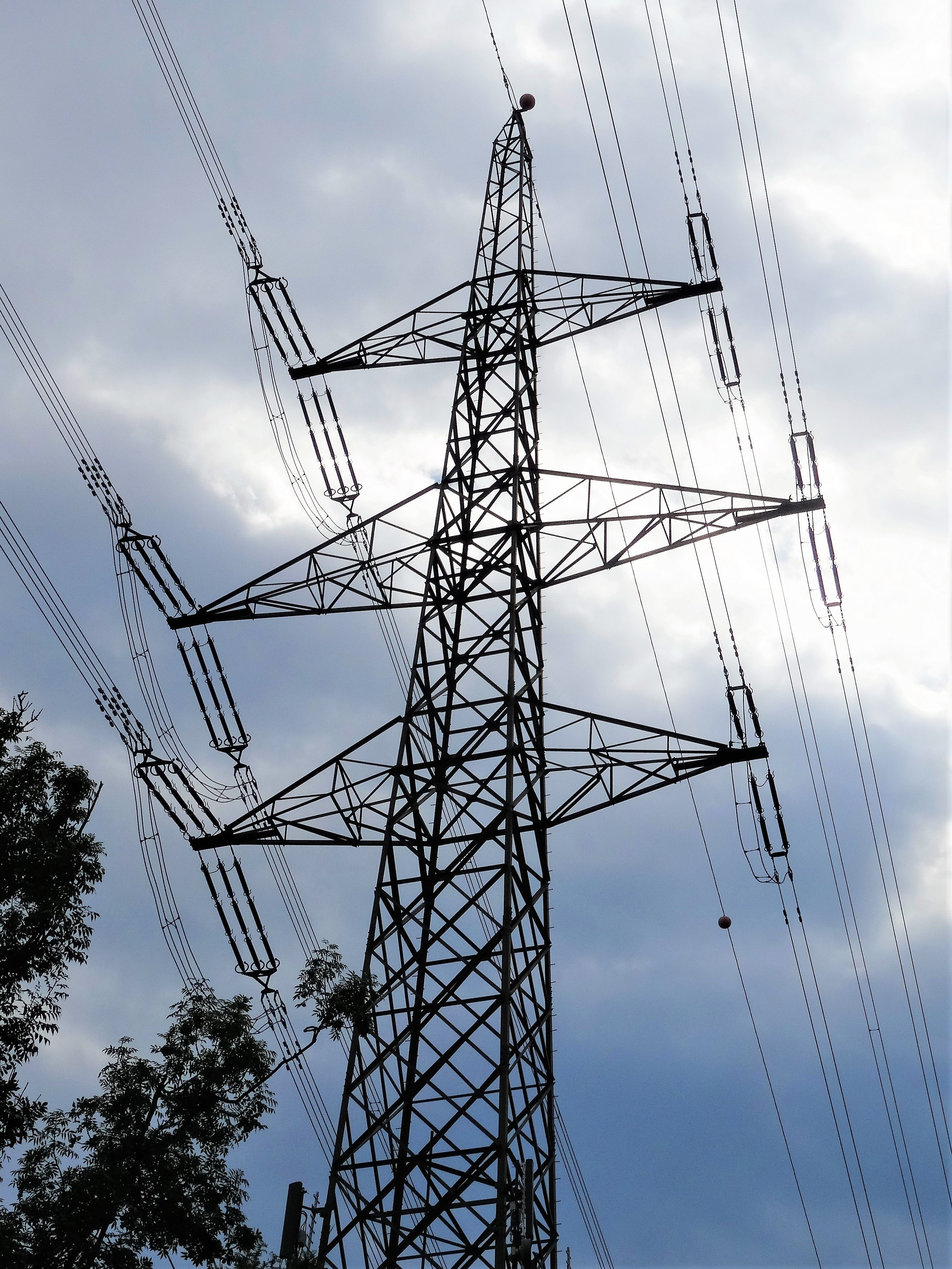insulator: (184, 847, 279, 995), (167, 626, 255, 760), (103, 525, 206, 623), (285, 373, 360, 505), (133, 756, 230, 831), (248, 267, 319, 361), (740, 753, 797, 866), (703, 296, 750, 395), (802, 508, 845, 611), (719, 668, 771, 753), (676, 203, 725, 289), (785, 423, 825, 506)
